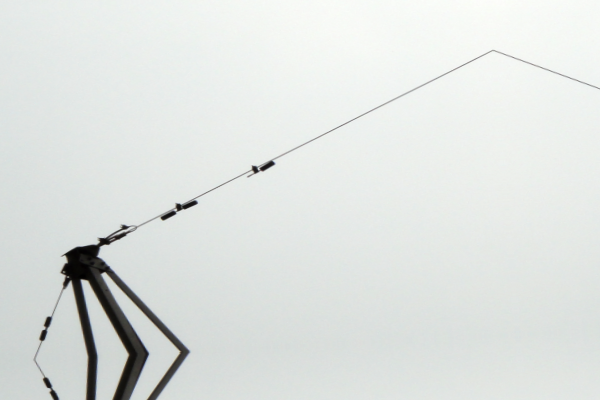damper: (158, 199, 198, 220), (37, 313, 54, 344)
damper_defect: (244, 160, 275, 182)
